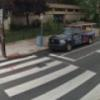crosswalks: (1, 55, 100, 100)
